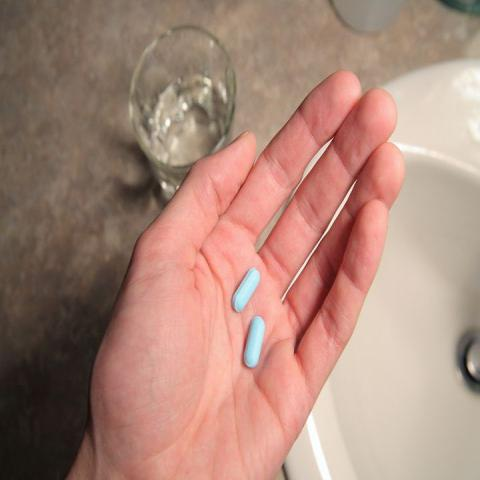Pill: (222, 252, 271, 317), (243, 301, 277, 376)
